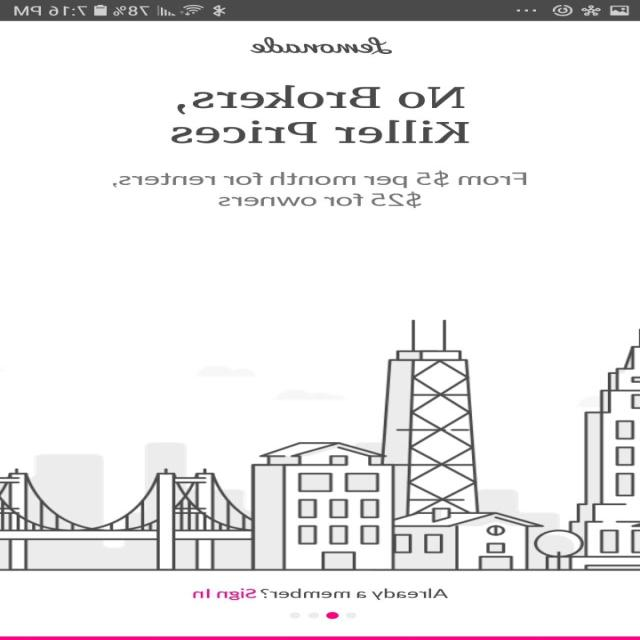Image: (1, 319, 640, 571)
Text: (172, 84, 470, 144), (113, 170, 527, 208), (194, 588, 449, 600), (251, 37, 393, 55)
